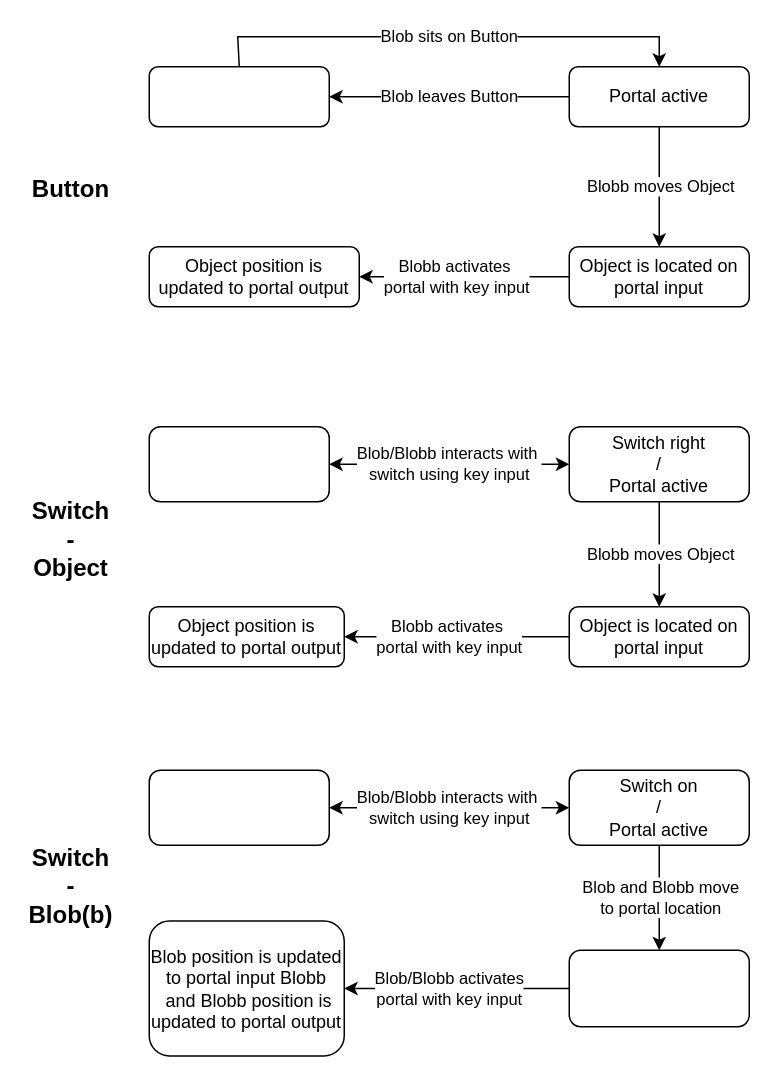
Some shapes in this 776 by 1083 pixel diagram are drawn without their labels. Each missing label, with the centre of its shape:
Blob and Blobb are located on portal input: [658,988]
Portal inactive: [238,96]
Switch left / Portal inactive: [238,463]
Switch off / Portal inactive: [238,807]
